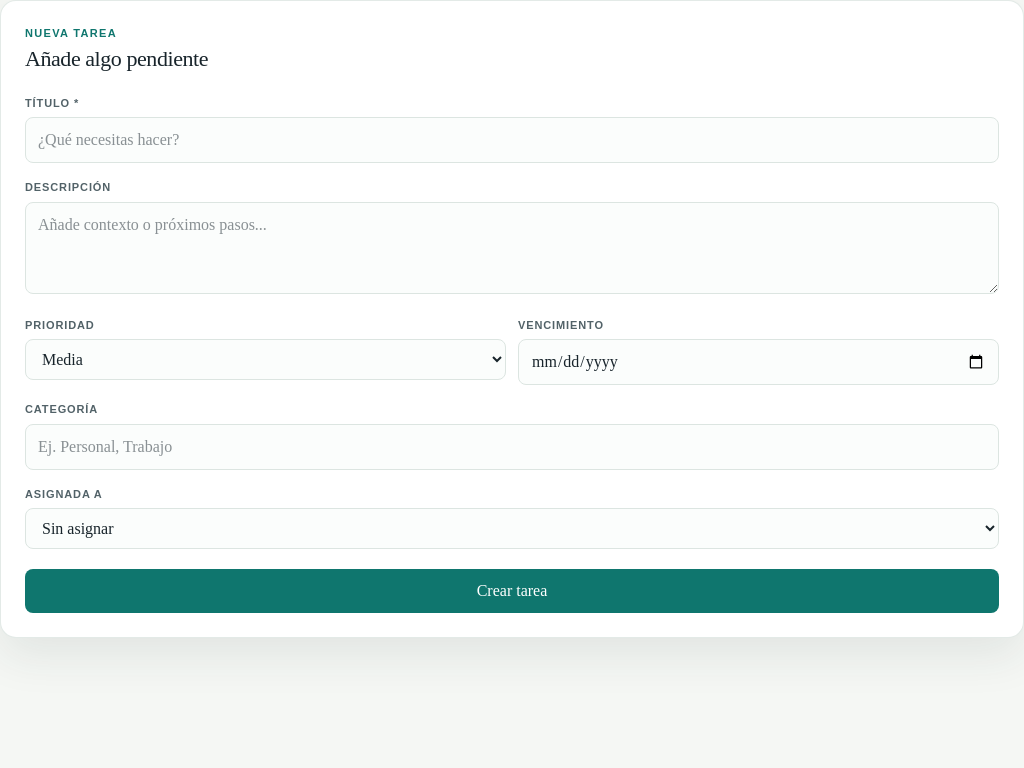
TaskForm › muestra un error de validación cuando falta el título
Step 1. Click the button "Crear tarea" → (512, 591), box [25, 569, 999, 613]
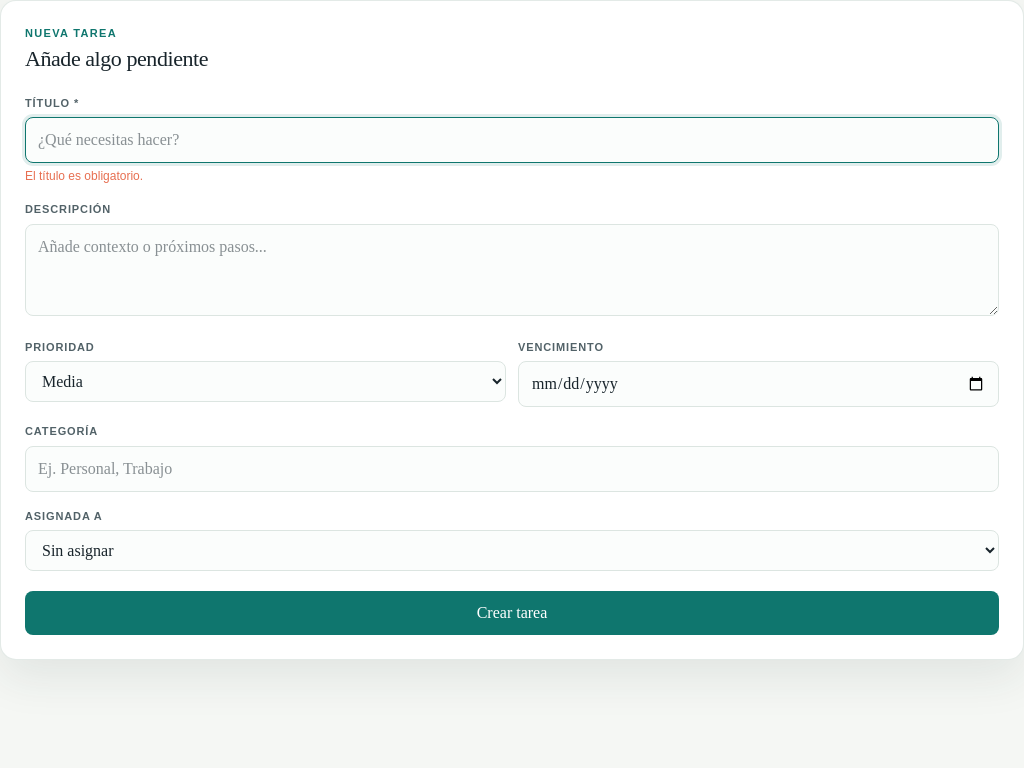
Expected: the text "El título es obligatorio." is shown, [25, 169, 143, 183]
